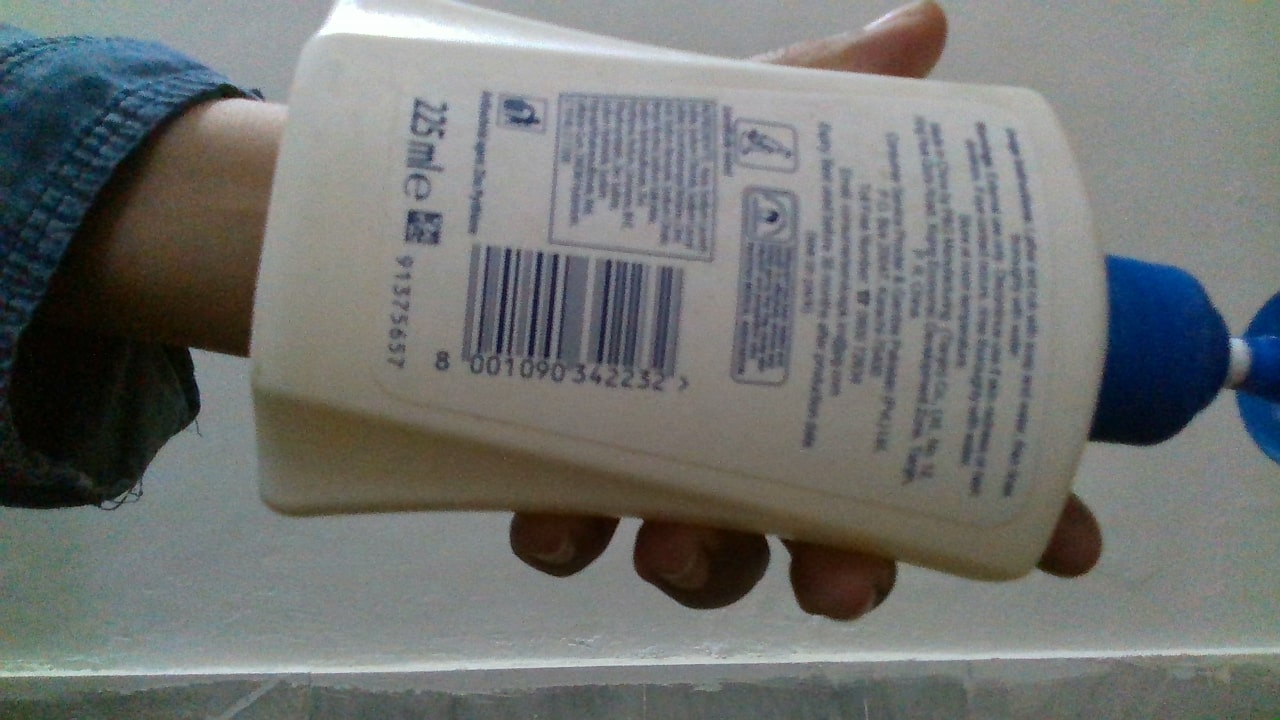Barcode: (457, 238, 690, 395)
